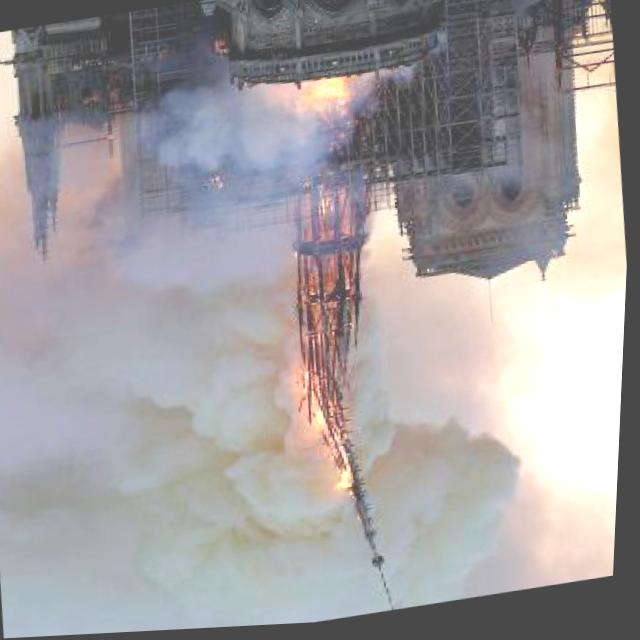Fire: (266, 186, 377, 507), (281, 66, 358, 128)
Smoke: (0, 79, 390, 640), (354, 288, 544, 617)
